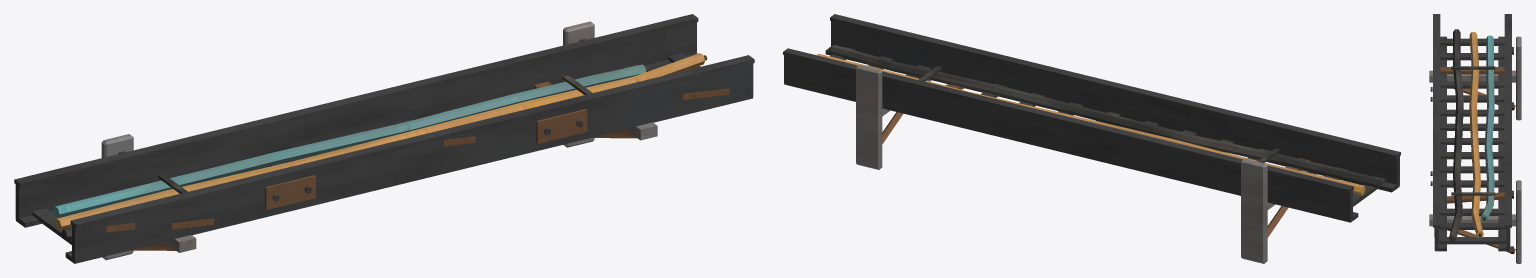
Rendered from U13_cable_tray.glb.
3 views of the same model, side by side, from view 1: azimuth 30°, elevation 25°; view 2: azimuth 150°, elevation 25°; view 3: azimuth 270°, elevation 25° (orthographic). The views are drawn at different scales.
Parts seen in each view (by area): view 1: Channel vertical web; view 2: Channel vertical web; view 3: Channel vertical web.
Boxes of the visible parts, box(x1,y1,x2,y2) form: Channel vertical web: box(14, 14, 754, 263); Channel vertical web: box(783, 14, 1400, 263); Channel vertical web: box(1429, 14, 1521, 263).
Bounding box in the file's own units: 3 × 0.5 × 0.5555.
7 materials, 7 textured.
